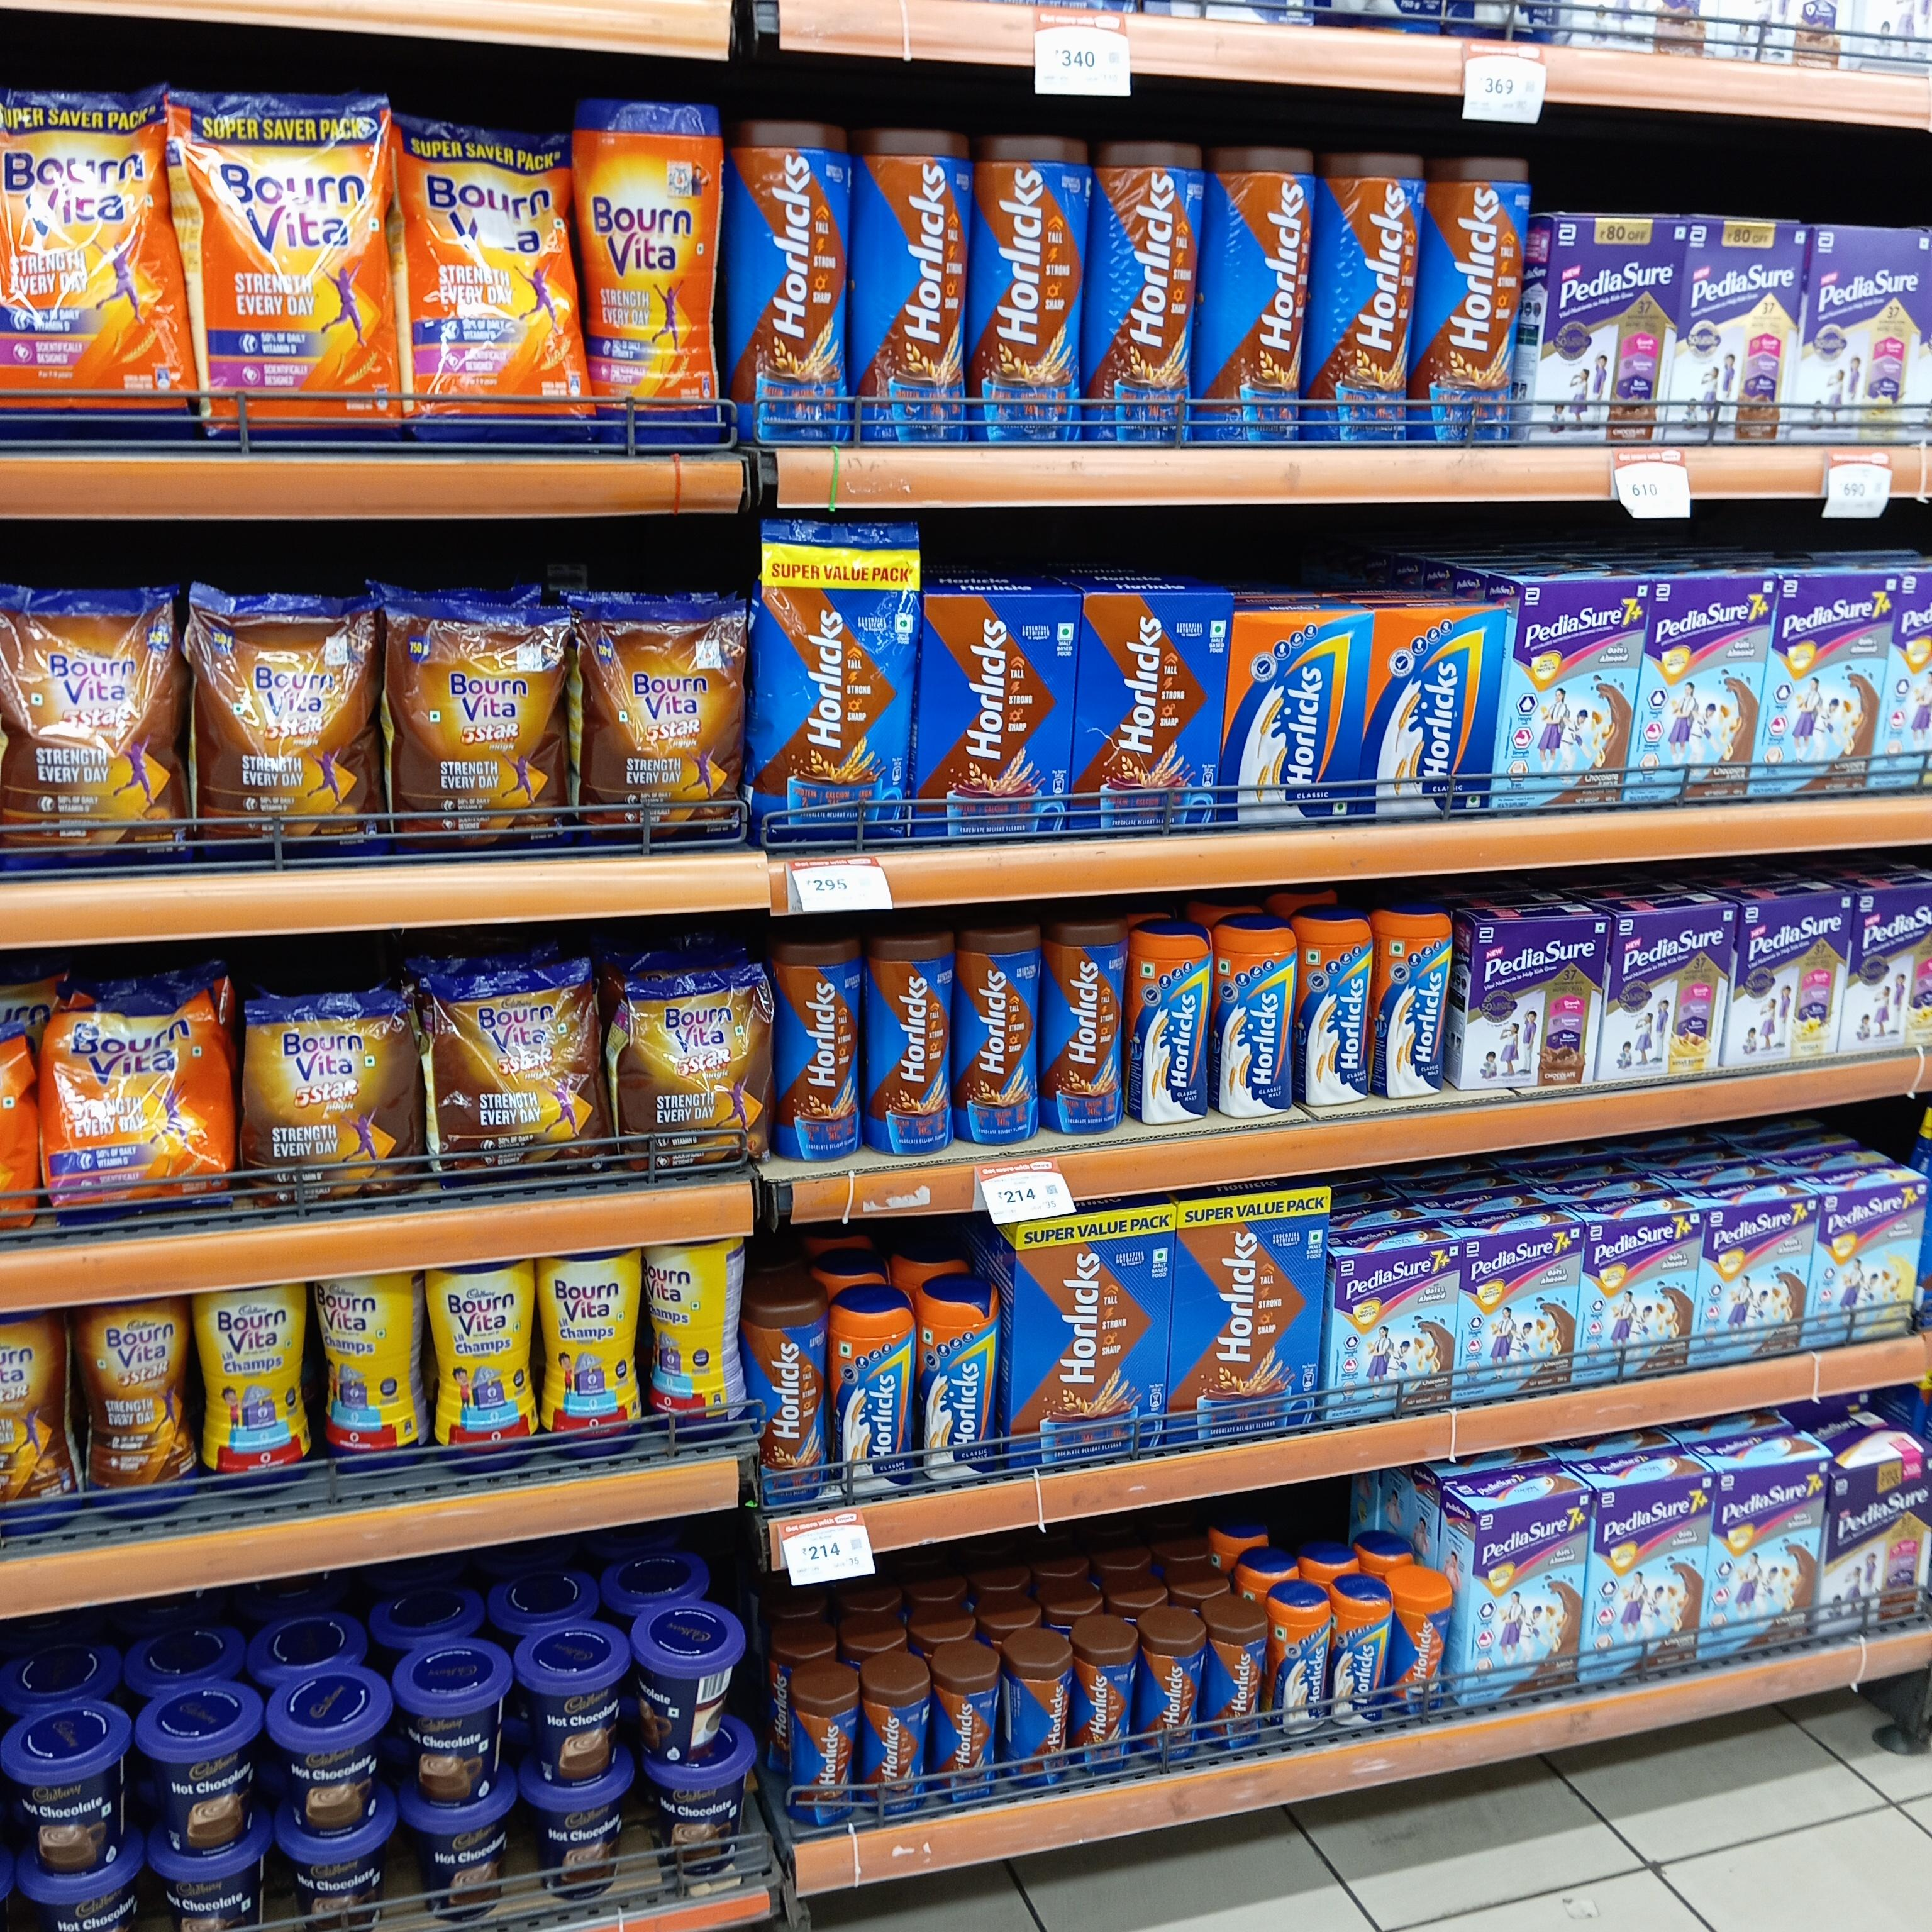BOURN_VITA_1_KG_JAR: (579, 96, 724, 451)
BOURN_VITA_FIVE_STAR_MAGIC_500_G_JAR: (78, 1293, 188, 1523), (0, 1309, 73, 1536)
BOURN_VITA_FIVE_STAR_MAGIC_500_G_POUCH: (242, 1001, 419, 1210), (433, 978, 610, 1184), (626, 978, 773, 1180)
BOURN_VITA_FIVE_STAR_MAGIC_750_G_POUCH: (188, 589, 382, 867), (0, 591, 180, 879), (580, 605, 750, 855), (398, 600, 554, 855)
HORLICK_CHOCOLATE_1_KG_JAR: (853, 126, 971, 446), (729, 115, 842, 448), (975, 129, 1085, 449), (1092, 129, 1194, 449), (1316, 143, 1419, 446), (1210, 138, 1306, 449), (1426, 152, 1525, 451)
HORLICK_CHOCOLATE_1_KG_PACK: (1012, 1217, 1171, 1458), (1182, 1203, 1322, 1449)
HORLICK_CHOCOLATE_200_G_JAR: (793, 1684, 858, 1835), (863, 1670, 927, 1821), (938, 1661, 1000, 1808), (1077, 1633, 1138, 1780), (1146, 1626, 1207, 1769), (1212, 1615, 1270, 1757), (1019, 1654, 1074, 1790)
HORLICK_CHOCOLATE_500_G_JAR: (777, 943, 863, 1162), (867, 931, 948, 1154), (1046, 925, 1129, 1141), (957, 925, 1037, 1150), (752, 1299, 826, 1520)
HORLICK_CHOCOLATE_500_G_PACK: (924, 591, 1070, 839), (1081, 589, 1210, 833)
HORLICK_CHOCOLATE_750_G_POUCH: (752, 536, 911, 851)
HORLICK_CLASSIC_MALT_200_G_JAR: (1338, 1585, 1394, 1736), (1274, 1598, 1327, 1737)
HORLICK_CLASSIC_MALT_500_G_JAR: (1214, 925, 1297, 1118), (1134, 927, 1210, 1129), (1380, 915, 1453, 1100), (1304, 913, 1373, 1106)
HORLICK_CLASSIC_MALT_500_G_PACK: (1223, 605, 1364, 817), (1371, 607, 1500, 816)
PEDIASURE_7_PLUS_CHOCOLATE_400_G_PACK: (1511, 582, 1647, 803), (1652, 579, 1773, 798), (1775, 573, 1886, 796), (1470, 1497, 1585, 1706), (1594, 1488, 1706, 1684), (1716, 1468, 1824, 1654), (1704, 1198, 1813, 1371), (1465, 1230, 1576, 1398), (1587, 1223, 1698, 1389), (1339, 1249, 1454, 1408)
PEDIASURE_CHOCOLATE_500_G_PACK: (1548, 212, 1675, 446), (1683, 223, 1808, 442), (1472, 918, 1594, 1090), (1826, 1461, 1932, 1637)
PEDIASURE_VANILLA_500_G_PACK: (1801, 225, 1932, 442), (1734, 895, 1845, 1065), (1612, 913, 1727, 1077), (1854, 879, 1932, 1056)
